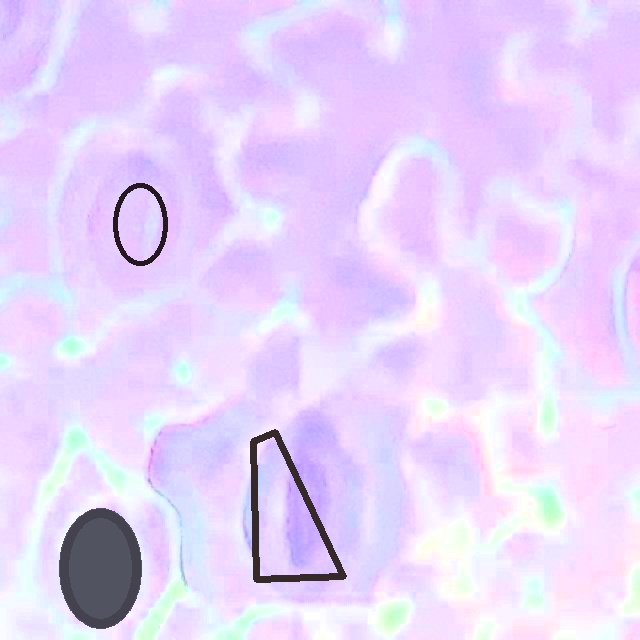close: (59, 508, 142, 627), (112, 183, 169, 266)
open: (250, 429, 346, 582)
